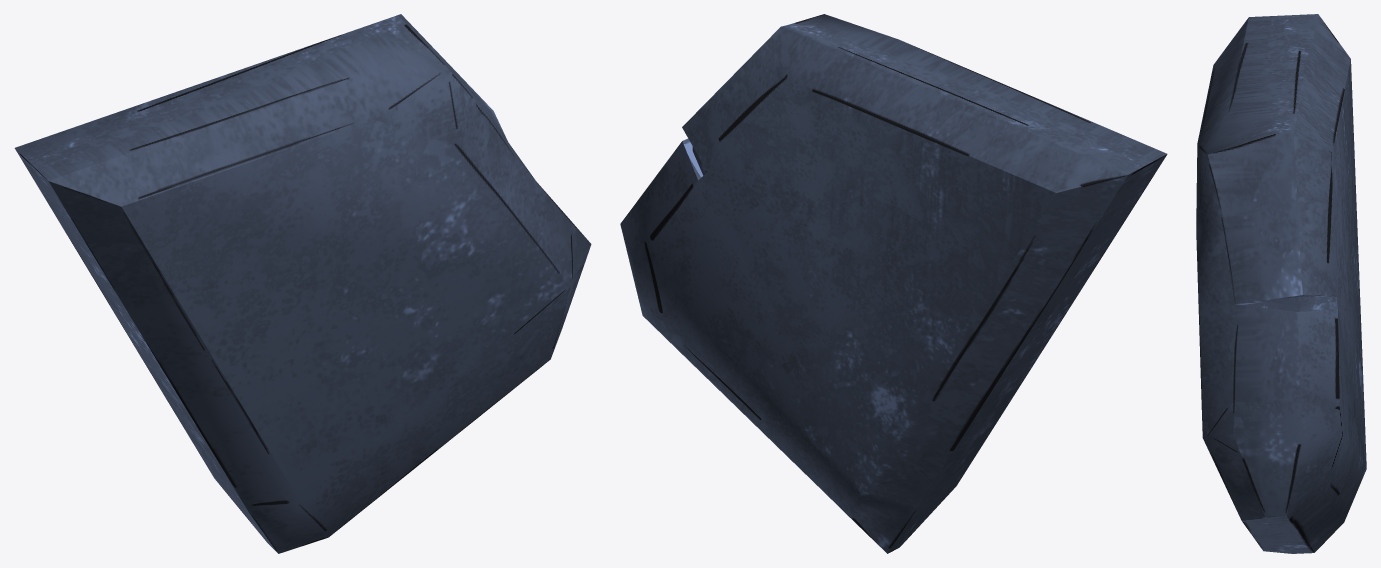
File: Felsen_1.fbx
3 renders of one model, left to right at view 1: azimuth 30°, elevation 25°; view 2: azimuth 150°, elevation 25°; view 3: azimuth 270°, elevation 25°, orthographic. The views are drawn at different scales.
Parts seen in each view (by area): view 1: Felsne_1; view 2: Felsne_1; view 3: Felsne_1.
Boxes of the visible parts, left/top/right/bottom form: Felsne_1: left=14, top=14, right=591, bottom=553; Felsne_1: left=620, top=14, right=1167, bottom=553; Felsne_1: left=1196, top=14, right=1366, bottom=553.
Bounding box in the file's own units: 1670 × 1517 × 492.
